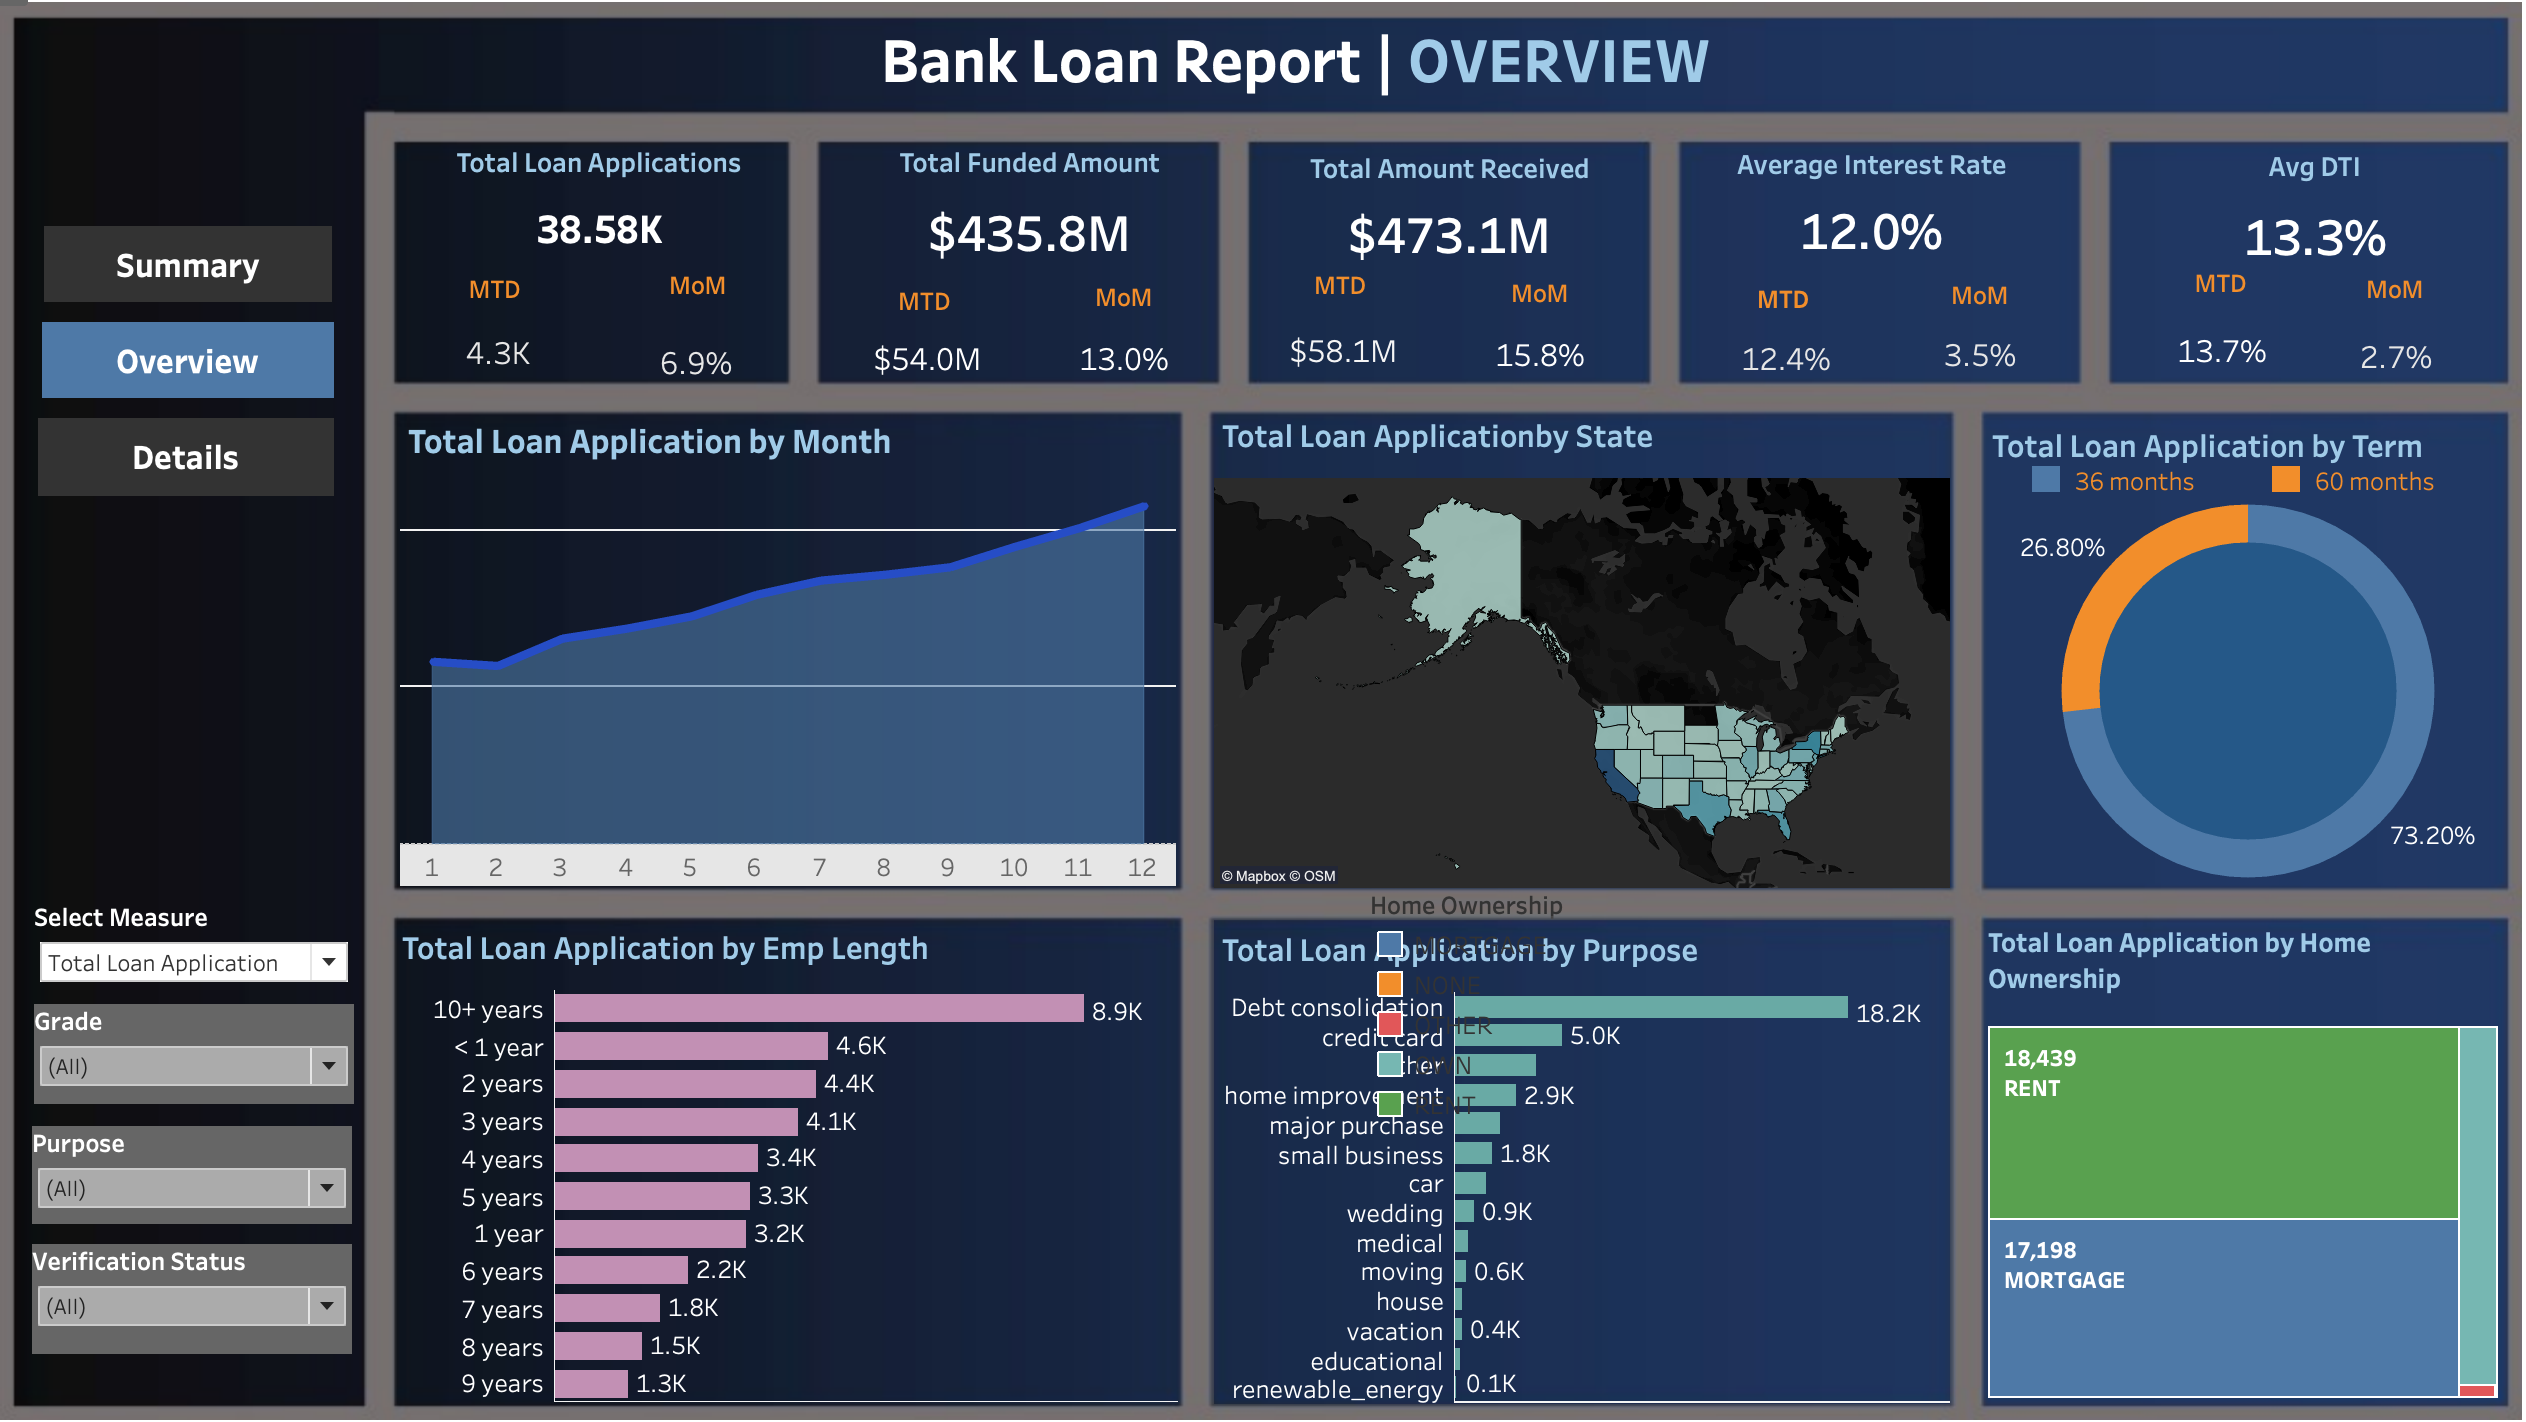

The page's visual inventory and layout, read from the dashboard file:
{"tool":"tableau","page":{"name":"OVERVIEW","canvas":[1000,1000],"units":"permille","ordinal":0},"visuals":[{"type":"image","param":"/Users/danhtungcao/Desktop/Tableau Porfolio/bankLoanProject/Tableau Background 2","box":[6.2,10,987.5,980]},{"type":"text","box":[350.2,67.3,470,51.1]},{"type":"worksheet","title":"Total Loan Applications","mark":"Automatic","box":[167.3,140.9,150.2,72.3]},{"type":"worksheet","title":"Total Funded Amount","mark":"Automatic","box":[333.1,140.9,154.1,77.3]},{"type":"worksheet","title":"Average Interest Rate","mark":"Automatic","box":[677.8,142.1,119.8,73.6]},{"type":"worksheet","title":"Avg DTI","mark":"Automatic","box":[834.2,143.4,151.8,77.3]},{"type":"worksheet","title":"Total Amount Received","mark":"Automatic","box":[498.1,144.6,151,73.6]},{"type":"dashboard-object","box":[26.5,197,112.1,47.4]},{"type":"text","box":[242,214.5,77.8,37.4]},{"type":"worksheet","title":"MTD Avg DTI","mark":"Automatic","box":[827.2,217,92.6,73.6]},{"type":"text","box":[176.7,218.2,50.6,34.9]},{"type":"worksheet","title":"MTD Total Amount Received","mark":"Automatic","box":[494.9,218.2,73.9,71.1]},{"type":"worksheet","title":"MoM Avg DTI","mark":"Automatic","box":[896.5,220.7,89.5,73.6]},{"type":"worksheet","title":"MoM Total Amount Received","mark":"Automatic","box":[563.4,223.2,90.3,67.3]},{"type":"worksheet","title":"MoM Avg Int Rate","mark":"Automatic","box":[745.5,224.4,68.5,64.8]},{"type":"worksheet","title":"MoM Total Funded Amount","mark":"Automatic","box":[410.9,225.7,71.6,67.3]},{"type":"worksheet","title":"MTD Avg Int Rate","mark":"Automatic","box":[663,226.9,82.5,64.8]},{"type":"worksheet","title":"MTD Total Funded Amount","mark":"Automatic","box":[331.5,228.2,77,62.3]},{"type":"worksheet","title":"MTD Total Applications","mark":"Automatic","box":[156.4,249.4,93.4,52.4]},{"type":"dashboard-object","box":[25.7,256.9,113.6,47.4]},{"type":"worksheet","title":"MoM Loan Applications","mark":"Automatic","box":[245.1,261.9,70,38.6]},{"type":"worksheet","title":"State","mark":"Multipolygon","box":[481.7,309.2,286.4,300.5]},{"type":"worksheet","title":"Month","mark":"Area","rows":["Calculation_1300414448724627456","Calculation_1300414448724627456"],"cols":["issue_date"],"box":[165,311.7,301.9,296.8]},{"type":"worksheet","title":"Term","mark":"Pie","rows":["Calculation_1364801849660919809","Calculation_1364801849660919809"],"box":[781.3,315.5,205.5,298]},{"type":"dashboard-object","box":[24.1,316.7,115.2,48.6]},{"type":"legend","title":"Term","param":"[federated.015kj6r0c6jg371g86a5t0doffs4].[none:term:nk]","box":[797.7,342.9,200,19.9]},{"type":"parameter","param":"[Parameters].[Parameter 1]","box":[22.6,617.2,124.5,54.9]},{"type":"worksheet","title":"Homeowner","mark":"Automatic","box":[779.8,627.2,203.9,304.2]},{"type":"worksheet","title":"Emp Length","mark":"Automatic","rows":["emp_length"],"cols":["Calculation_1300414448724627456"],"box":[162.7,628.4,305.1,301.8]},{"type":"worksheet","title":"Purpose","mark":"Automatic","rows":["purpose"],"cols":["Calculation_1300414448724627456"],"box":[481.7,629.7,286.4,301.8]},{"type":"filter","title":"Average Interest Rate","param":"[federated.015kj6r0c6jg371g86a5t0doffs4].[none:grade:nk]","box":[22.6,682,124.5,62.3]},{"type":"filter","title":"Average Interest Rate","param":"[federated.015kj6r0c6jg371g86a5t0doffs4].[none:purpose:nk]","box":[21.8,758.1,124.5,61.1]},{"type":"filter","title":"Average Interest Rate","param":"[federated.015kj6r0c6jg371g86a5t0doffs4].[none:verification_status:nk]","box":[21.8,831.7,124.5,68.6]}]}

Visuals, with their boxes on the dashboard's canvas, which has no fixed pixel size, in thousandths of its width and height (x1, y1, x2, y2). These are canvas units, not pixel positions in the 2526x1422 screenshot, which may show the page scaled, cropped or inside an application window:
image: <region>6, 10, 994, 990</region>
text: <region>350, 67, 820, 118</region>
"Total Loan Applications" worksheet: <region>167, 141, 318, 213</region>
"Total Funded Amount" worksheet: <region>333, 141, 487, 218</region>
"Average Interest Rate" worksheet: <region>678, 142, 798, 216</region>
"Avg DTI" worksheet: <region>834, 143, 986, 221</region>
"Total Amount Received" worksheet: <region>498, 145, 649, 218</region>
dashboard-object: <region>26, 197, 139, 244</region>
text: <region>242, 214, 320, 252</region>
"MTD Avg DTI" worksheet: <region>827, 217, 920, 291</region>
text: <region>177, 218, 227, 253</region>
"MTD Total Amount Received" worksheet: <region>495, 218, 569, 289</region>
"MoM Avg DTI" worksheet: <region>896, 221, 986, 294</region>
"MoM Total Amount Received" worksheet: <region>563, 223, 654, 290</region>
"MoM Avg Int Rate" worksheet: <region>746, 224, 814, 289</region>
"MoM Total Funded Amount" worksheet: <region>411, 226, 482, 293</region>
"MTD Avg Int Rate" worksheet: <region>663, 227, 746, 292</region>
"MTD Total Funded Amount" worksheet: <region>332, 228, 408, 290</region>
"MTD Total Applications" worksheet: <region>156, 249, 250, 302</region>
dashboard-object: <region>26, 257, 139, 304</region>
"MoM Loan Applications" worksheet: <region>245, 262, 315, 300</region>
"State" worksheet (Multipolygon marks): <region>482, 309, 768, 610</region>
"Month" worksheet (Area marks): <region>165, 312, 467, 608</region>
"Term" worksheet (Pie marks): <region>781, 316, 987, 614</region>
dashboard-object: <region>24, 317, 139, 365</region>
"Term" legend: <region>798, 343, 998, 363</region>
parameter: <region>23, 617, 147, 672</region>
"Homeowner" worksheet: <region>780, 627, 984, 931</region>
"Emp Length" worksheet: <region>163, 628, 468, 930</region>
"Purpose" worksheet: <region>482, 630, 768, 932</region>
"Average Interest Rate" filter: <region>23, 682, 147, 744</region>
"Average Interest Rate" filter: <region>22, 758, 146, 819</region>
"Average Interest Rate" filter: <region>22, 832, 146, 900</region>
